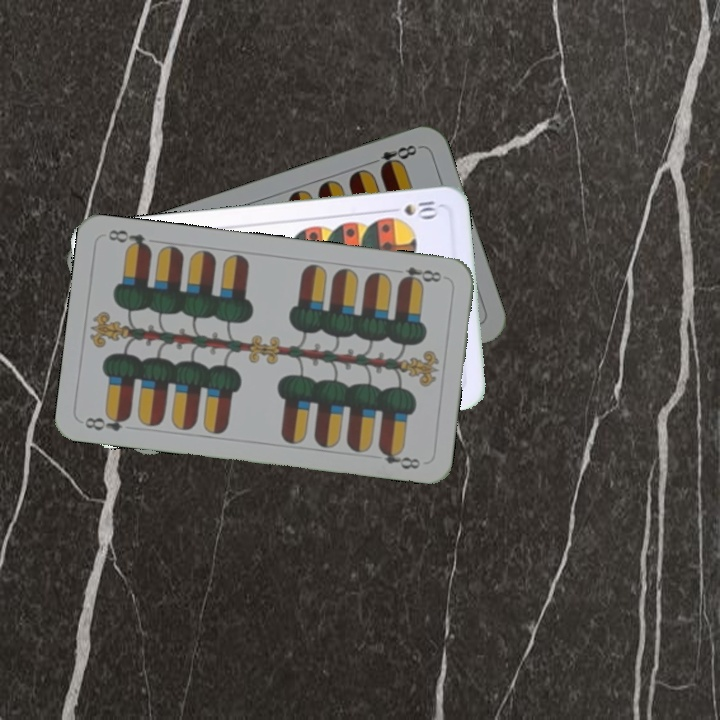E8: (365, 140, 423, 173), (81, 409, 132, 434), (395, 263, 445, 288)
S10: (383, 197, 443, 220)
